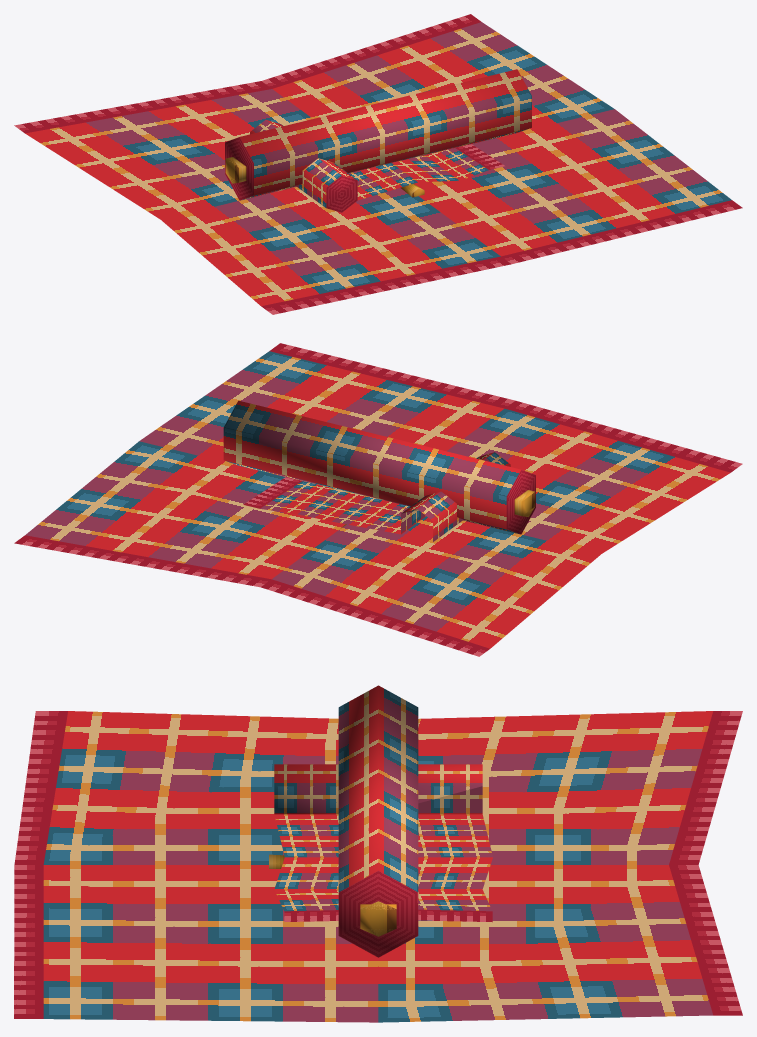
3 renders of one model, top to bottom at view 1: azimuth 30°, elevation 25°; view 2: azimuth 150°, elevation 25°; view 3: azimuth 270°, elevation 25°, orthographic. The views are drawn at different scales.
Parts seen in each view (by area): view 1: 5287ucc_nunoji00; view 2: 5287ucc_nunoji00; view 3: 5287ucc_nunoji00.
Part boxes in pixels (x1,y1,x2,y2): 5287ucc_nunoji00: (14,14,742,314); 5287ucc_nunoji00: (14,343,742,656); 5287ucc_nunoji00: (14,685,742,1022).
Bounding box in the file's own units: 2.02 × 0.2949 × 2.
Materials: 2 (2 with a texture image).
